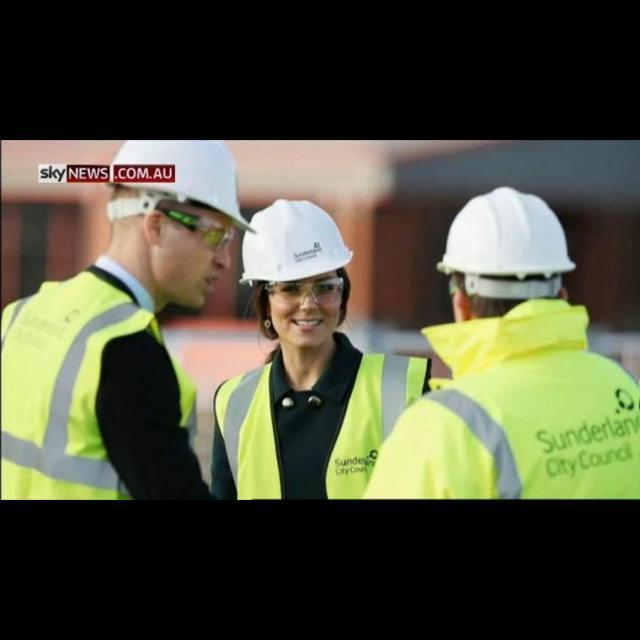Capacete: (108, 140, 251, 230), (437, 187, 574, 279), (240, 199, 352, 282)
Colete: (366, 299, 639, 498), (1, 272, 161, 498), (326, 354, 427, 498)
Oculos: (156, 206, 234, 248)
Pessoa: (2, 140, 248, 498), (365, 187, 639, 498), (212, 200, 429, 498)
